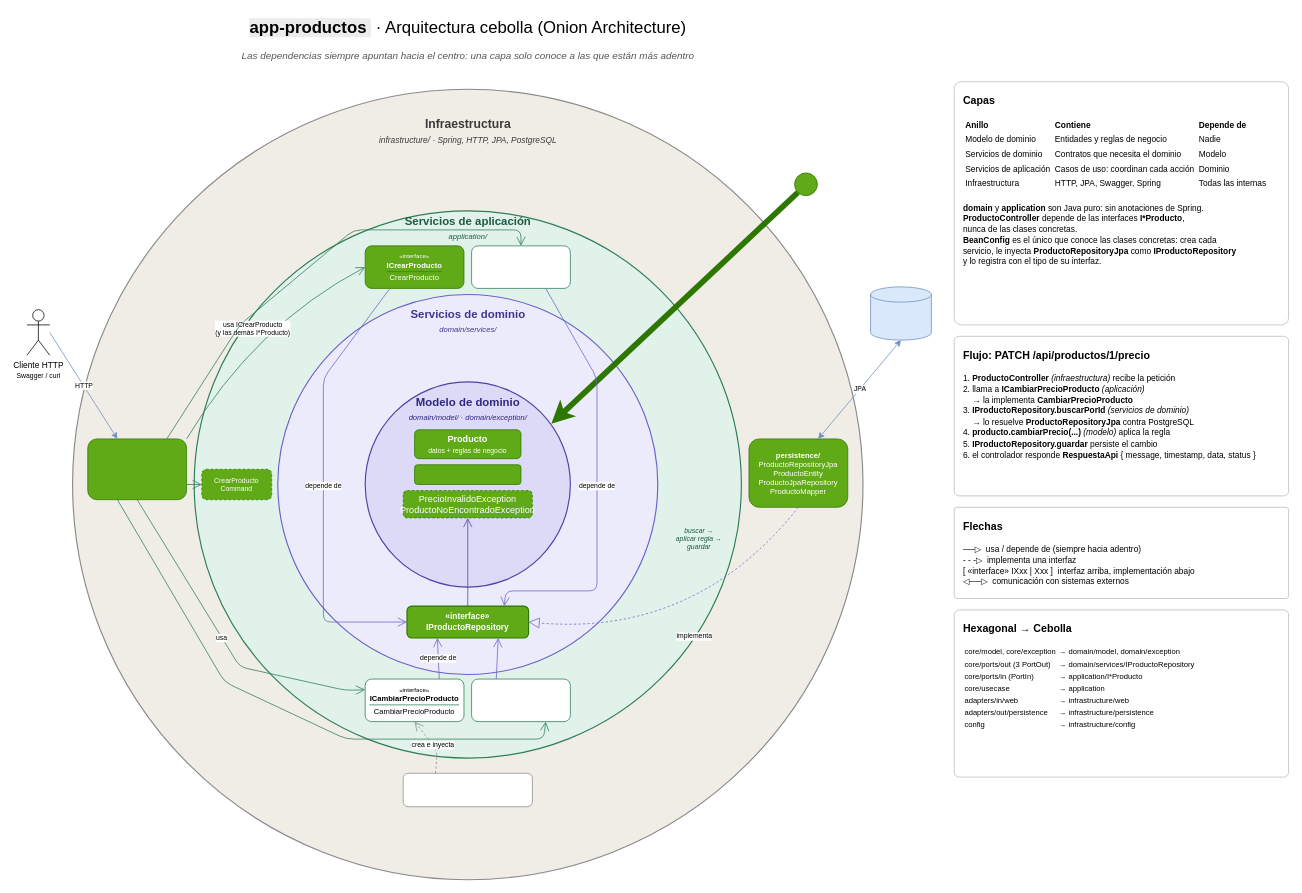
The diagram is 1302 pixels wide and 893 high, and some of its shapes have lost their labels. The centre of each missing label's shape, as x and y in pixels:
"Categoria (enum)" belongs at pixel 467 474.
"config/ BeanConfig · OpenApiConfig" belongs at pixel 467 790.
"PostgreSQL topicos_db" belongs at pixel 900 313.
"web/ ProductoController GlobalExceptionHandler dto/ · doc/" belongs at pixel 137 469.
"«interface» IEliminarProducto EliminarProducto" belongs at pixel 520 700.
"«interface» IObtenerProducto ObtenerProducto" belongs at pixel 520 266.
